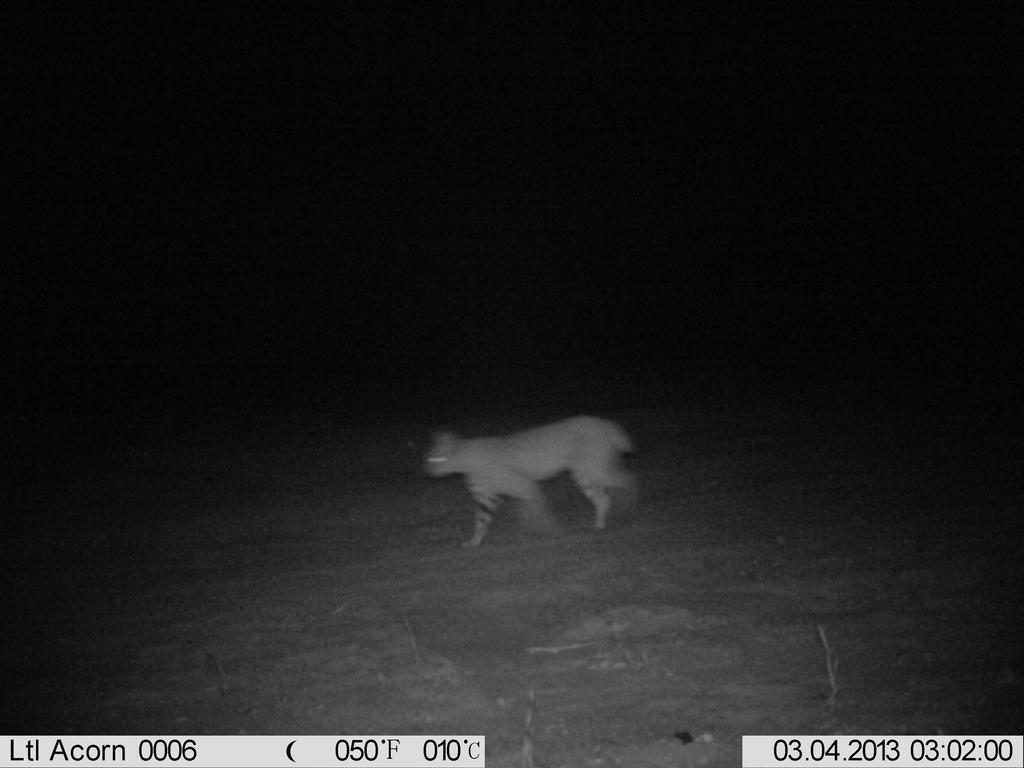bobcat: (417, 405, 651, 549)
